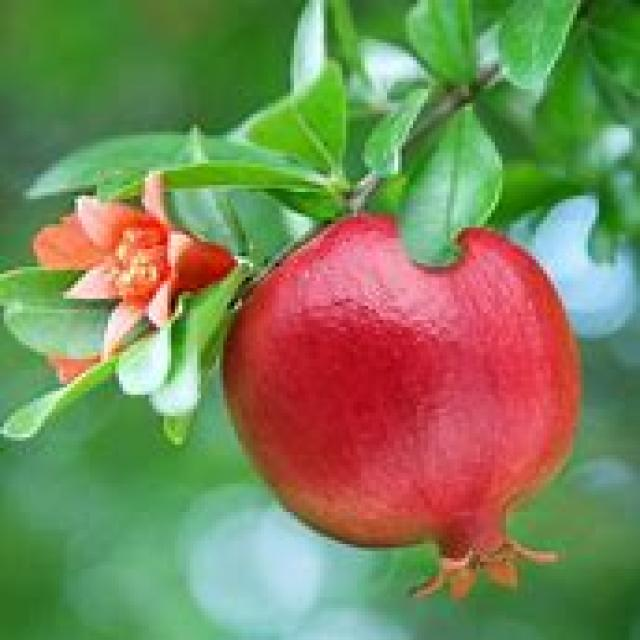Pomegranate: (217, 206, 584, 604)
